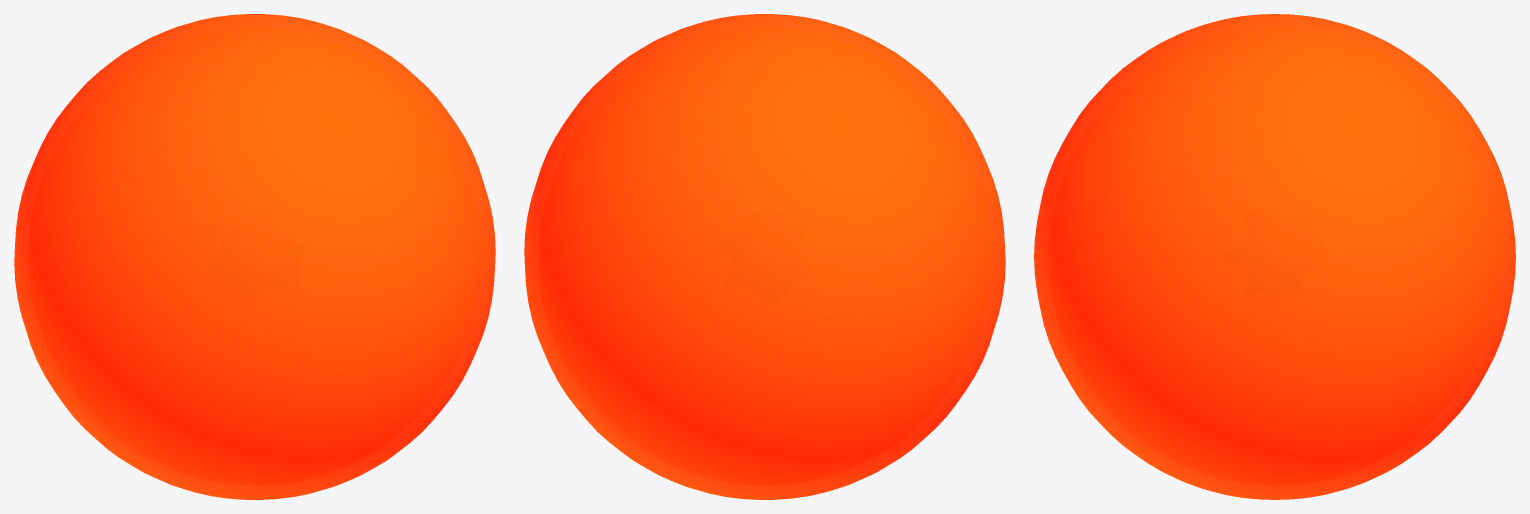
Rendered from dragon ball 1.glb.
The picture shows the model from 3 angles, left to right: view 1: azimuth 30°, elevation 25°; view 2: azimuth 150°, elevation 25°; view 3: azimuth 270°, elevation 25°; orthographic projection.
Parts seen in each view (by area): view 1: Dragon ball 1; view 2: Dragon ball 1; view 3: Dragon ball 1.
Part boxes in pixels (x1,y1,x2,y2): Dragon ball 1: [14, 14, 495, 499]; Dragon ball 1: [524, 14, 1005, 499]; Dragon ball 1: [1034, 14, 1515, 499].
Size of the model in its own units: 4.28 by 4.34 by 4.28.
